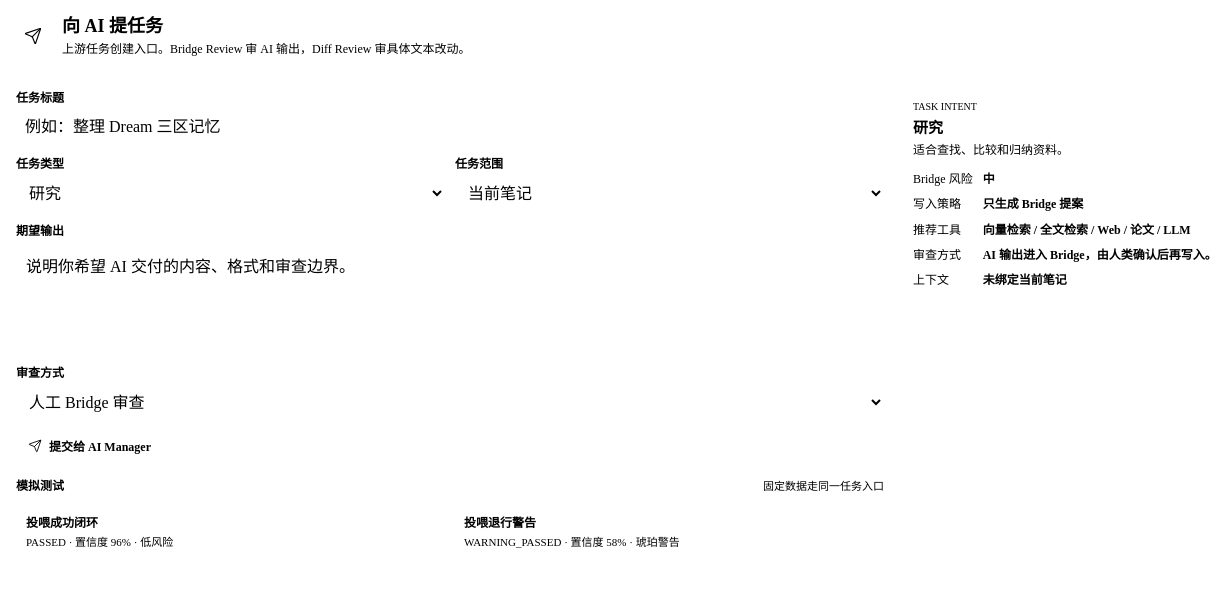
Test: HumanTaskIntake › feeds the deterministic simulation suite into the AI surface
The width and height of the screenshot is (1227, 603).
Click the button "投喂退行警告 WARNING_PASSED · 置信度 58% · 琥珀警告".
click(500, 523)  # box x1=454 y1=504 x2=884 y2=559
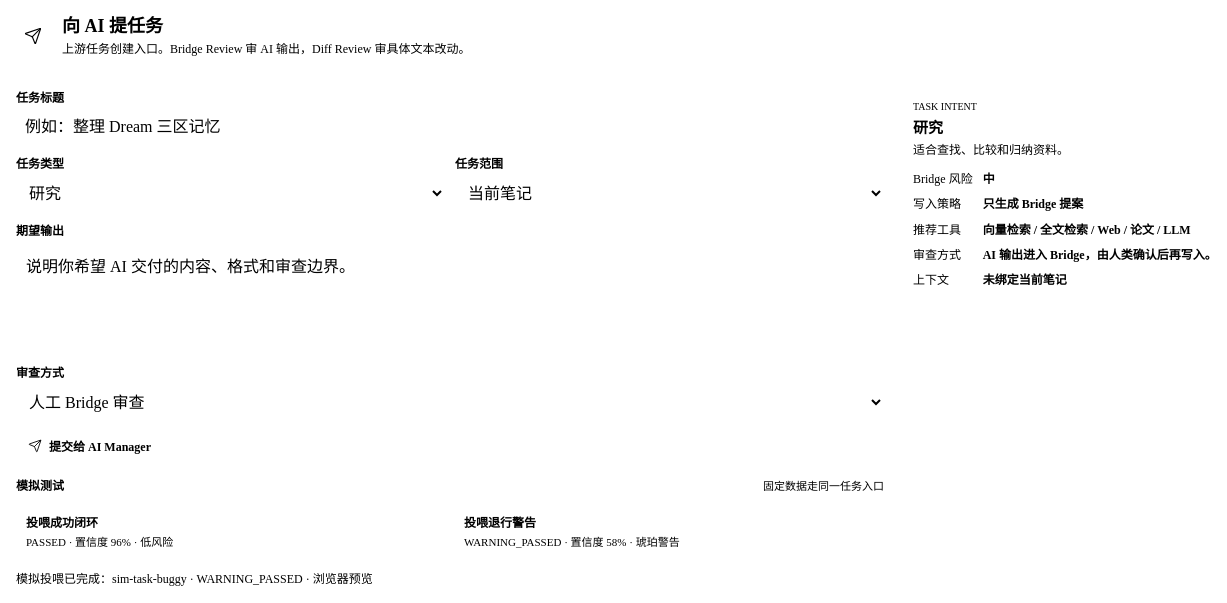
Expected: the text "模拟投喂已完成：sim-task-buggy · WARNING_PASSED · 浏览器预览" is shown, x1=16 y1=572 x2=373 y2=586
